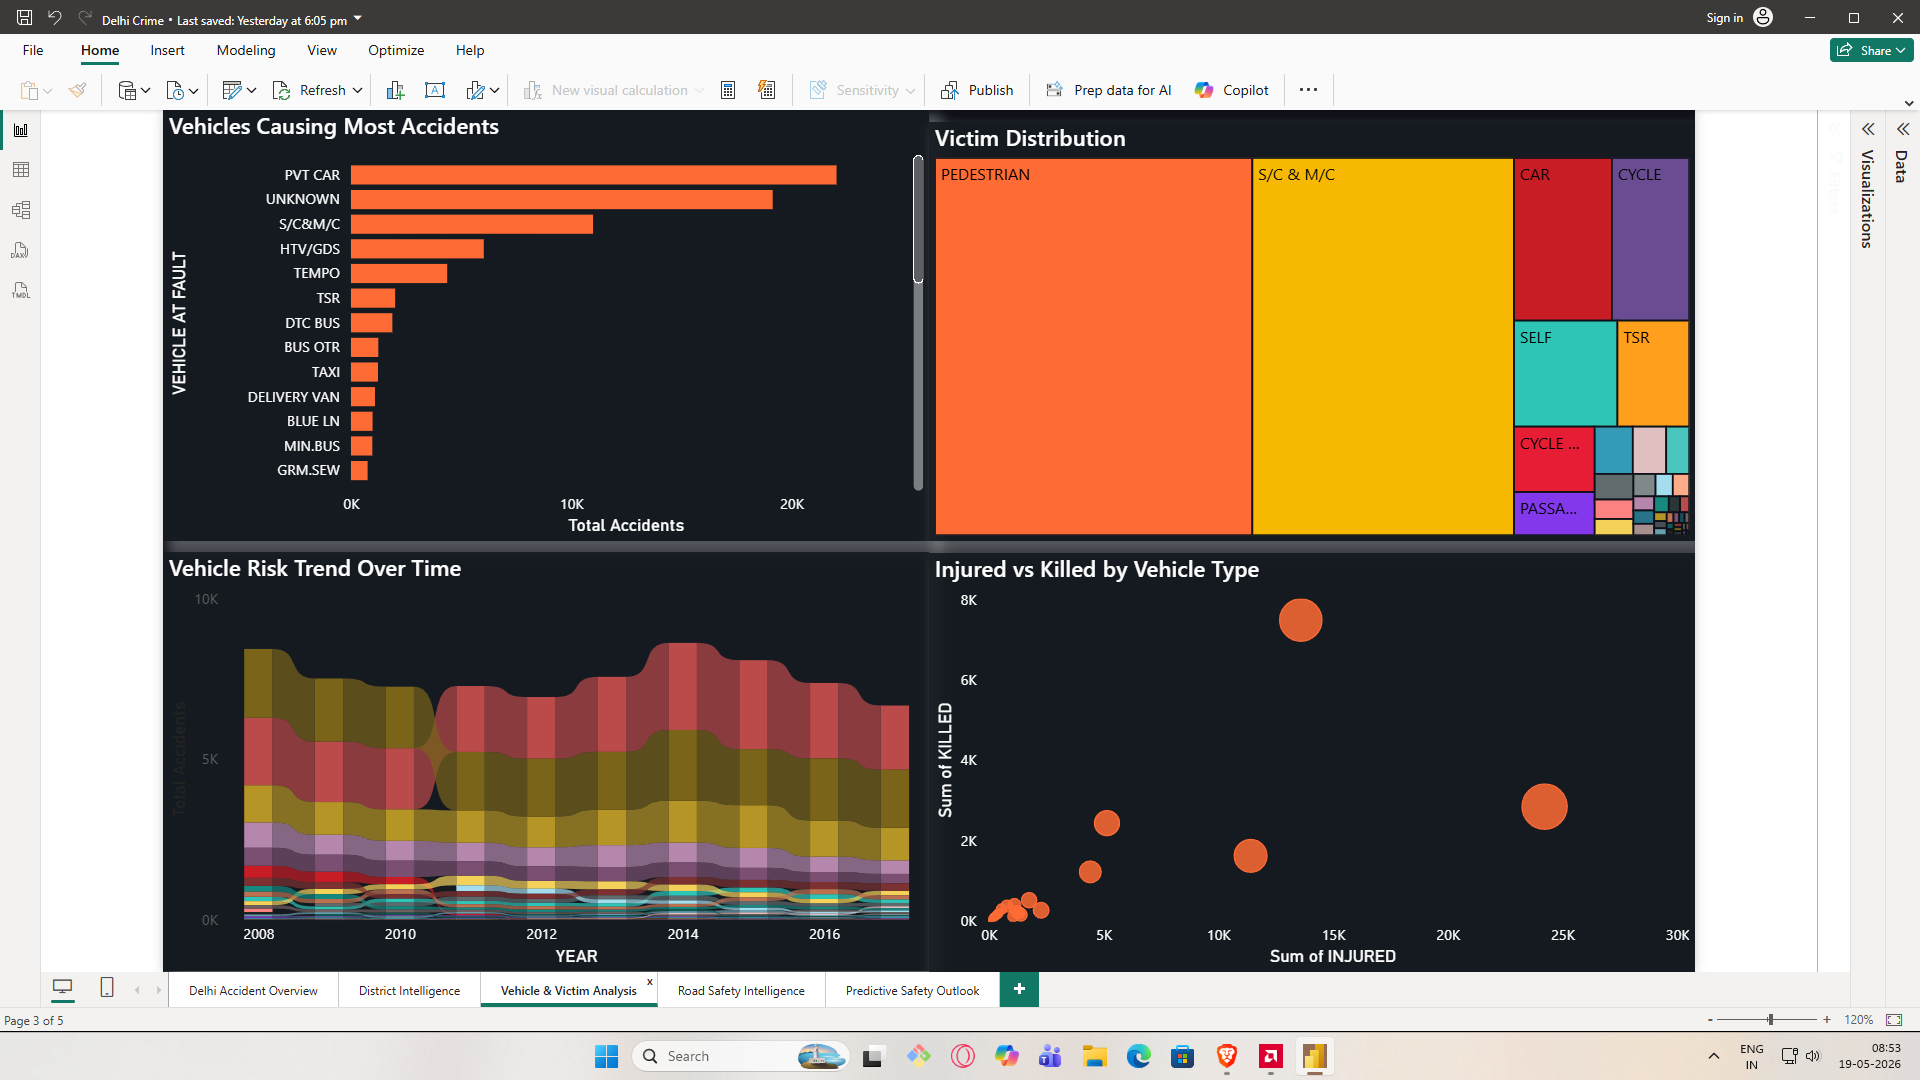

Layout of this report page (visuals, bound fields, positions):
{"tool":"powerbi","page":{"name":"Vehicle & Victim Analysis","canvas":[1280,720],"ordinal":2},"visuals":[{"type":"clusteredBarChart","title":"Vehicles Causing Most Accidents","fields":{"Category":["Data.VEHICLE AT FAULT"],"Y":["Data.Total Accidents"]},"box":[0,0,640,359.9],"z":0},{"type":"treemap","title":"Victim Distribution","fields":{"Group":["Data.VICTIM"],"Values":["Data.Total Accidents"]},"box":[640,9.7,640,350.2],"z":1000},{"type":"ribbonChart","title":"Vehicle Risk Trend Over Time","fields":{"Y":["Data.Total Accidents"],"Category":["Data.YEAR"],"Series":["Data.VEHICLE AT FAULT"]},"box":[0,369.6,640,350.2],"z":2000},{"type":"scatterChart","title":"Injured vs Killed by Vehicle Type","fields":{"X":["Sum(Data.INJURED)"],"Y":["Sum(Data.KILLED)"],"Category":["Data.VEHICLE AT FAULT"],"Size":["Data.Total Accidents"]},"box":[640,370,640,350],"z":3000}]}

Visuals, with their boxes on the page's 1280x720 design canvas (x1, y1, x2, y2). These are canvas units, not pixel positions in the 1920x1080 screenshot, which may show the page scaled, cropped or inside an application window:
"Vehicles Causing Most Accidents" clusteredBarChart: 0,0,640,360
"Victim Distribution" treemap: 640,10,1280,360
"Vehicle Risk Trend Over Time" ribbonChart: 0,370,640,720
"Injured vs Killed by Vehicle Type" scatterChart: 640,370,1280,720
